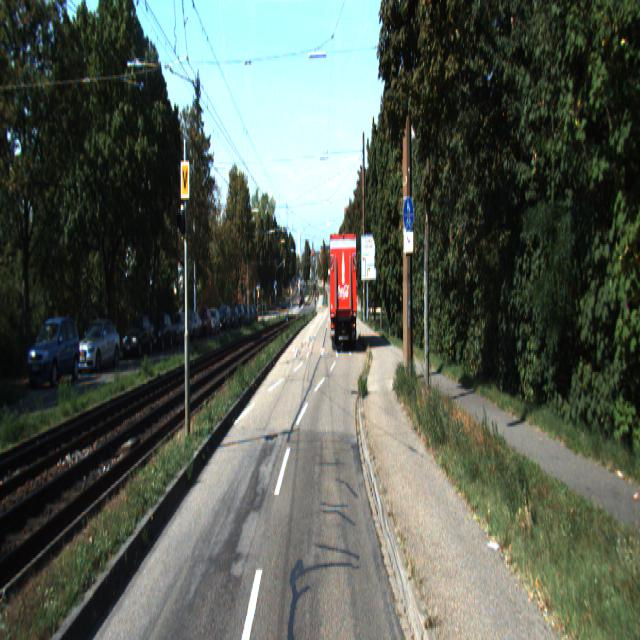Car: (27, 314, 84, 389), (327, 231, 358, 354), (74, 316, 121, 373), (120, 313, 154, 361), (149, 310, 173, 350), (167, 312, 189, 348), (196, 305, 212, 338)
